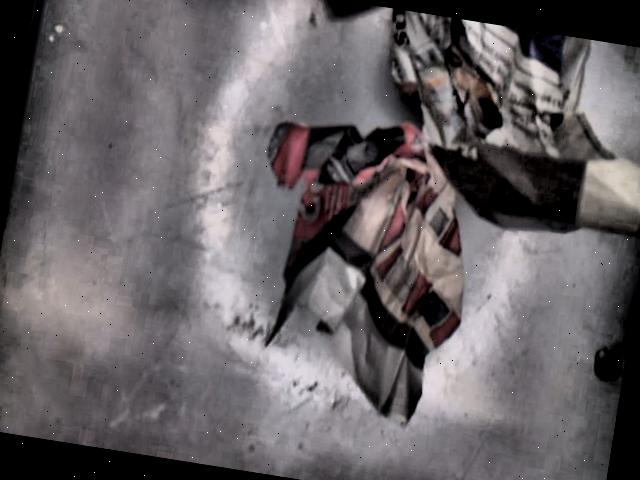Paper: (265, 8, 640, 427)
